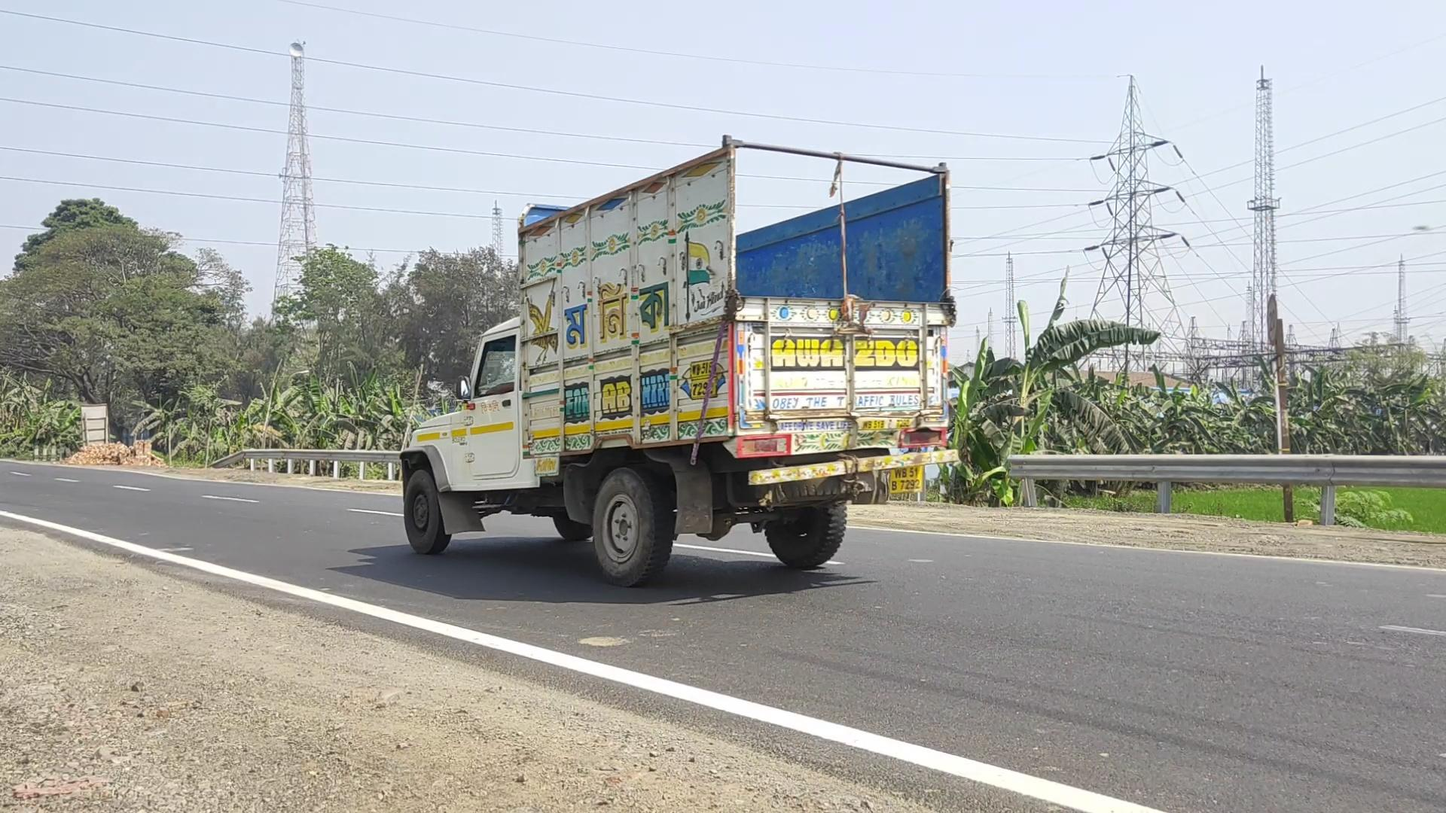van: (399, 135, 956, 588)
